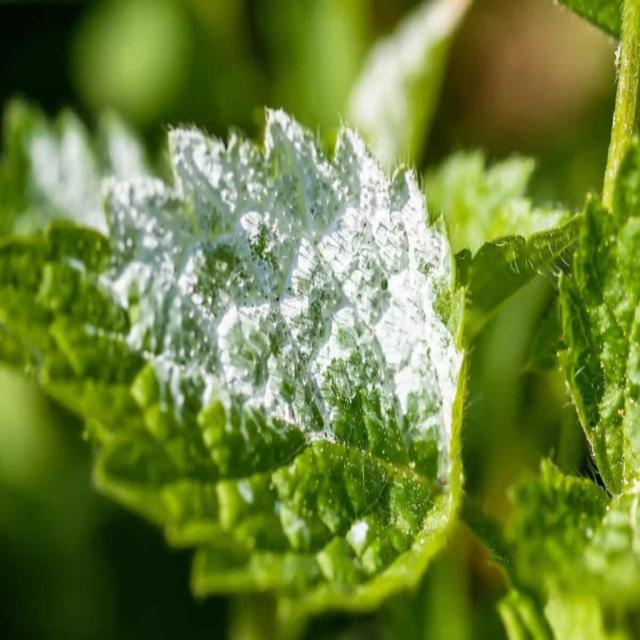Powdery Mildew: (97, 103, 463, 486)
